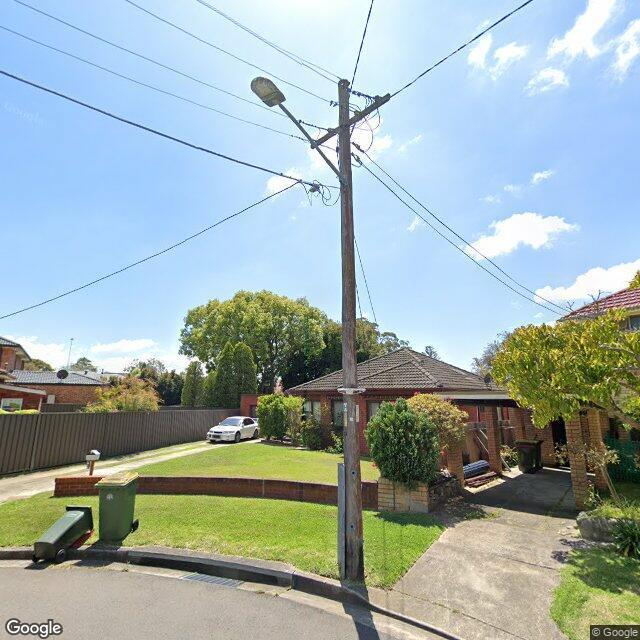crossarm: (310, 91, 392, 149)
streetlight: (249, 76, 347, 185)
timber-pole: (336, 79, 364, 581)
